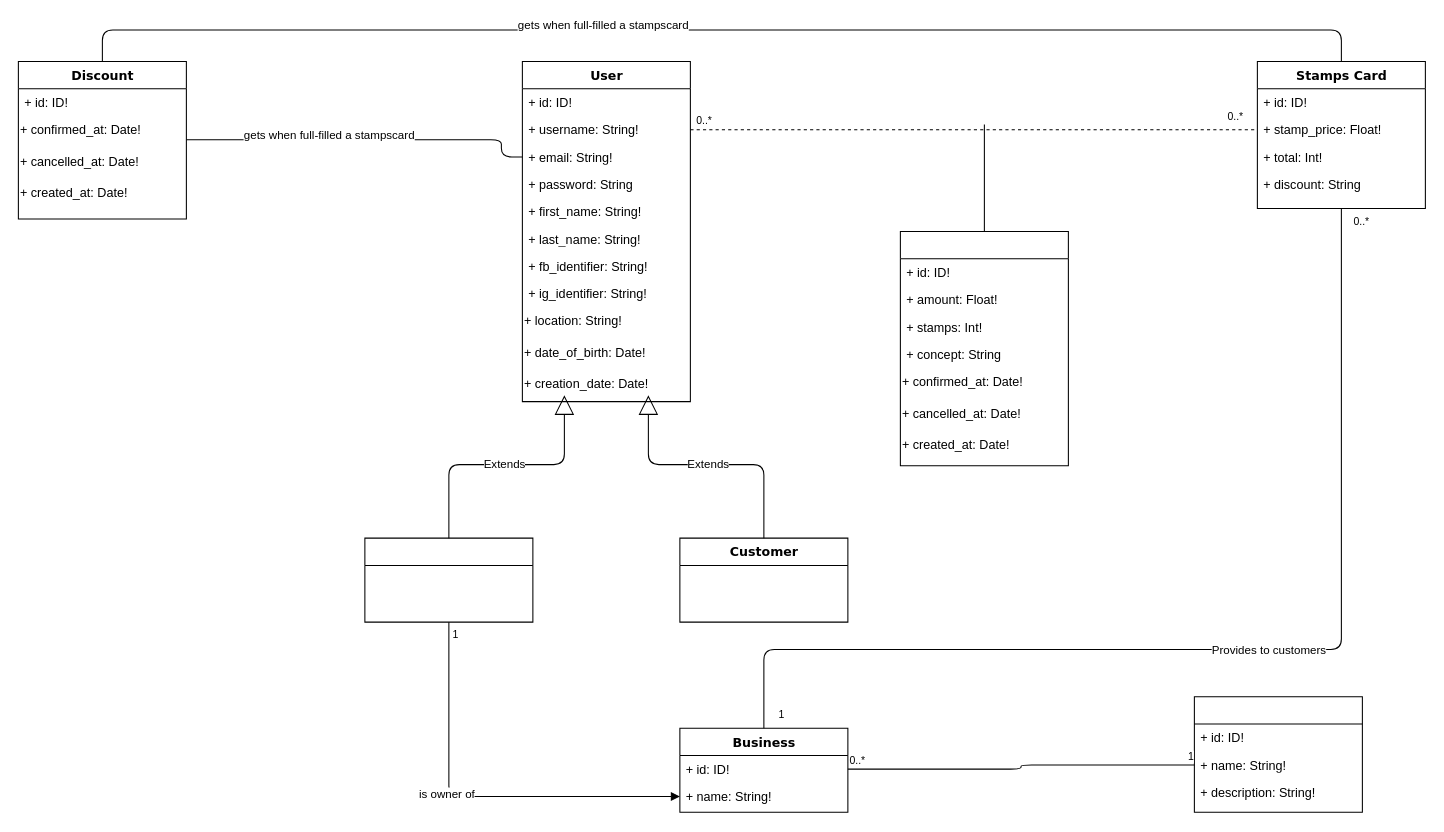
Some shapes in this 1444 by 832 pixel diagram are drawn without their labels. The shapes that lost their labels are listed below. From the top down, each one's box as (x1, y1, x2, y2) in pixels, then its label:
(899, 230, 1068, 466): Purchase
(364, 537, 533, 622): Business Owner
(1193, 696, 1362, 812): Business Type
